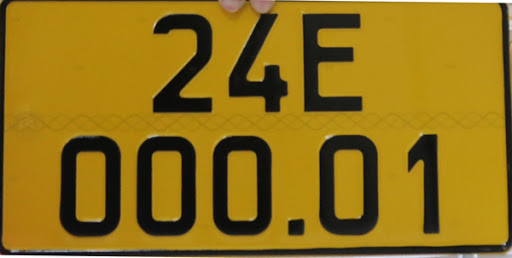plate: (3, 1, 510, 249)
